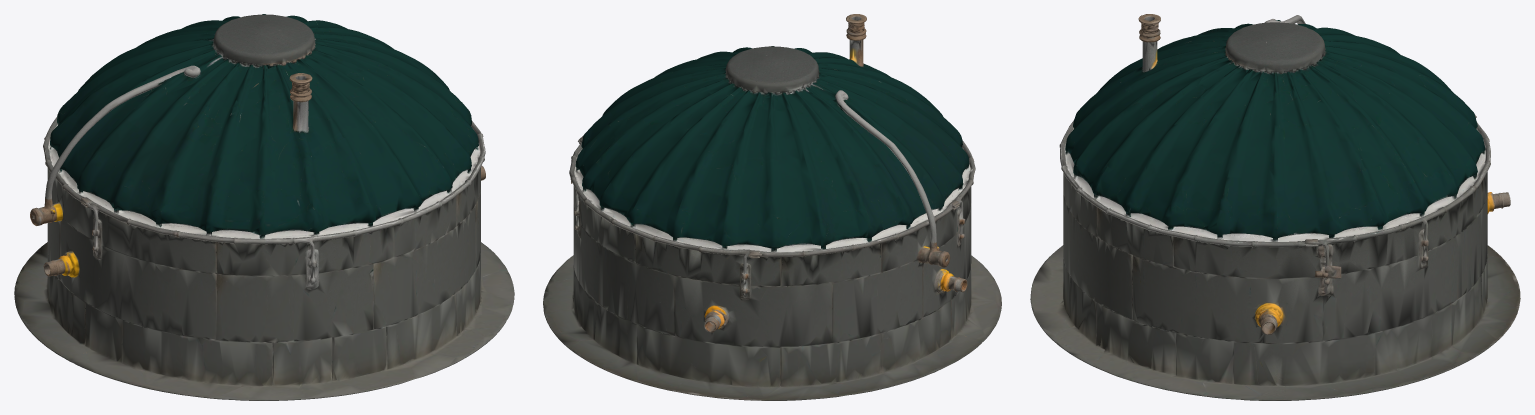
Rendered from biogas-digester.glb.
3 renders of one model, left to right at view 1: azimuth 30°, elevation 25°; view 2: azimuth 150°, elevation 25°; view 3: azimuth 270°, elevation 25°, orthographic. The views are drawn at different scales.
Bounding box in the file's own units: 1.9 × 1.14 × 1.9.
Materials: 1 (1 with a texture image).
